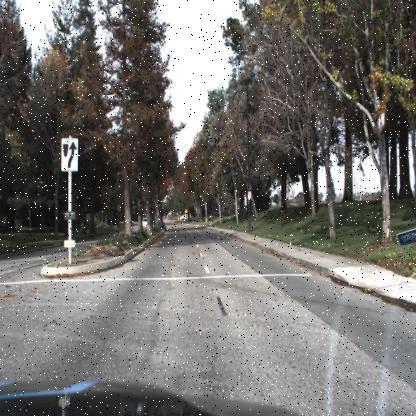car: (140, 217, 148, 229)
